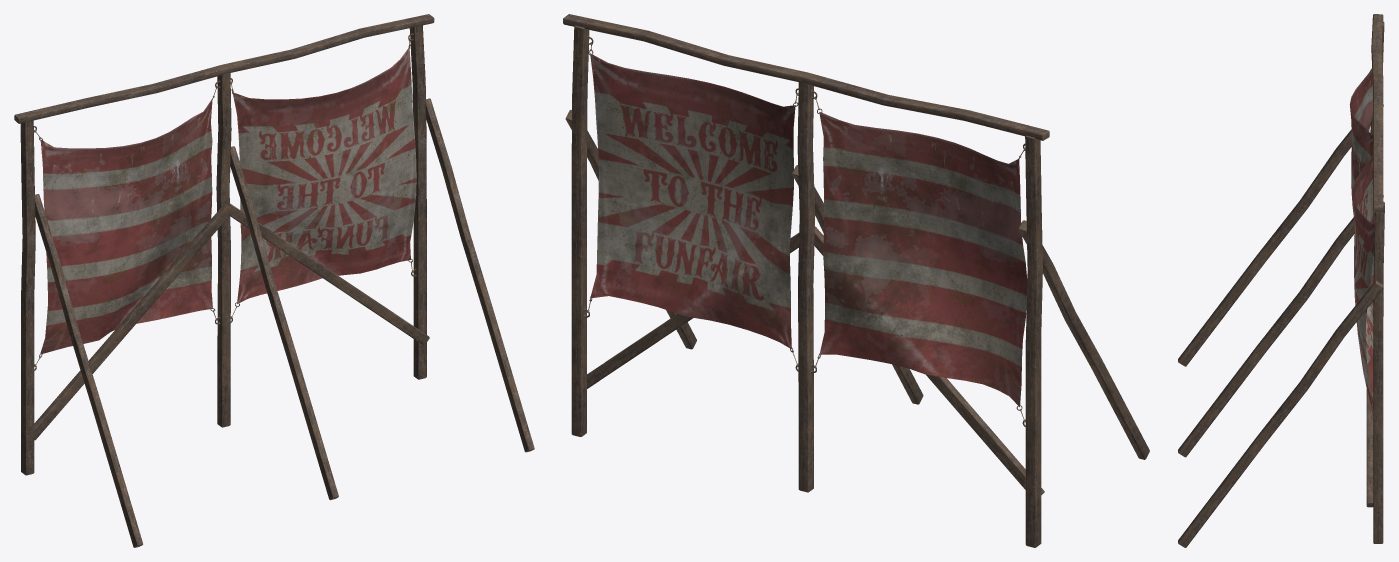
The model's file is SM_CanvasWall_B.fbx.
The picture shows the model from 3 angles, left to right: view 1: azimuth 30°, elevation 25°; view 2: azimuth 150°, elevation 25°; view 3: azimuth 270°, elevation 25°; orthographic projection. The views are drawn at different scales.
Parts seen in each view (by area): view 1: SM_CanvasWall_B_LOD0; view 2: SM_CanvasWall_B_LOD0; view 3: SM_CanvasWall_B_LOD0.
Part boxes in pixels (x1,y1,x2,y2): SM_CanvasWall_B_LOD0: (14, 14, 534, 547); SM_CanvasWall_B_LOD0: (563, 14, 1149, 547); SM_CanvasWall_B_LOD0: (1178, 14, 1384, 547).
Bounding box in the file's own units: 655 × 297 × 546.
Materials: 2 (2 with a texture image).
